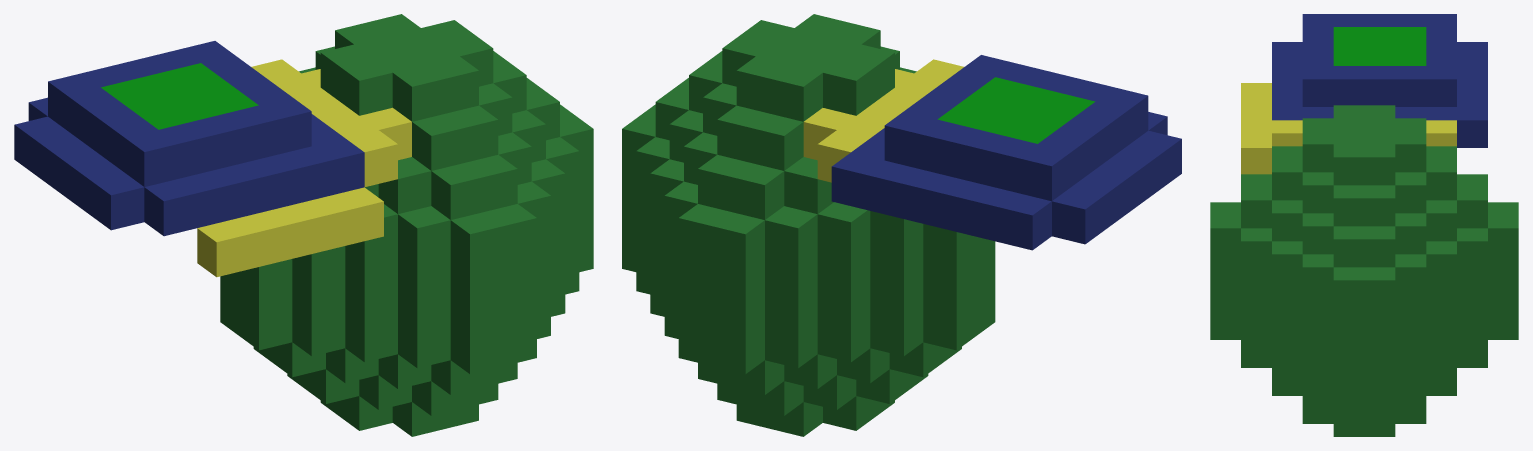
File: damage_mecha-3.obj
3 views of the same model, side by side, from view 1: azimuth 30°, elevation 25°; view 2: azimuth 150°, elevation 25°; view 3: azimuth 270°, elevation 25° (orthographic). The views are drawn at different scales.
Parts seen in each view (by area): view 1: damage_mecha-3; view 2: damage_mecha-3; view 3: damage_mecha-3.
Part boxes in pixels (x1,y1,x2,y2): damage_mecha-3: [14, 14, 593, 436]; damage_mecha-3: [622, 14, 1181, 436]; damage_mecha-3: [1210, 14, 1518, 436].
Size of the model in its own units: 15 by 10 by 10.
1 material, 1 textured.
